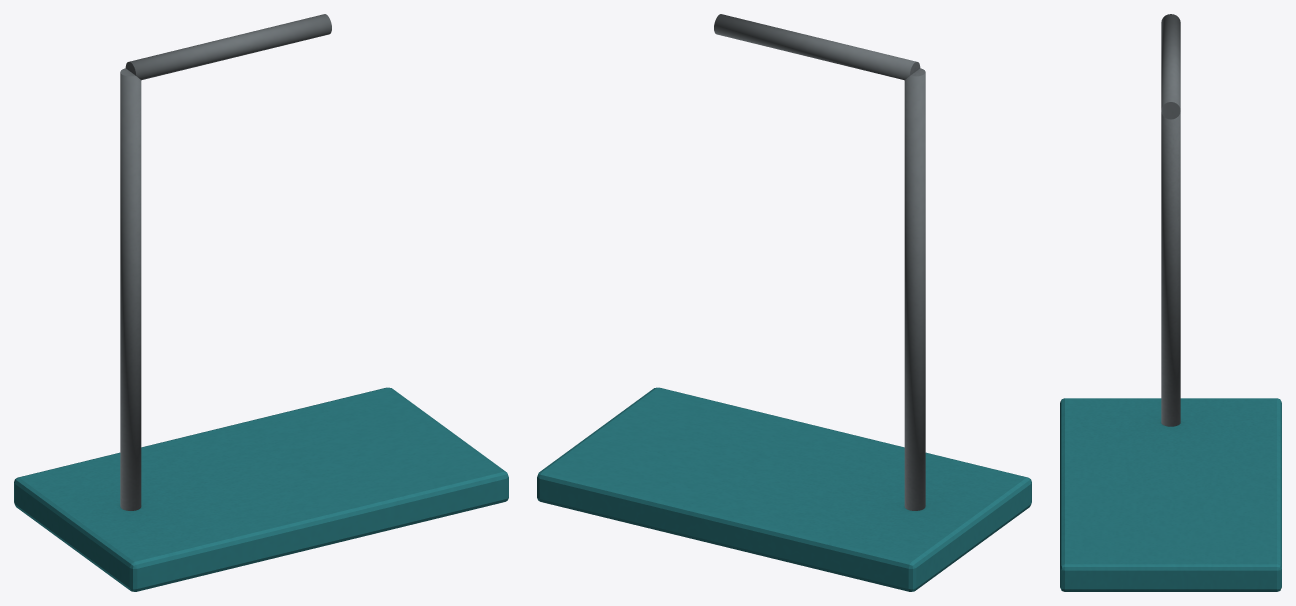
The picture shows the model from 3 angles, left to right: view 1: azimuth 30°, elevation 25°; view 2: azimuth 150°, elevation 25°; view 3: azimuth 270°, elevation 25°; orthographic projection. The views are drawn at different scales.
Size of the model in its own units: 1.45 by 1.74 by 0.8.
Materials: 1 (1 with a texture image).
